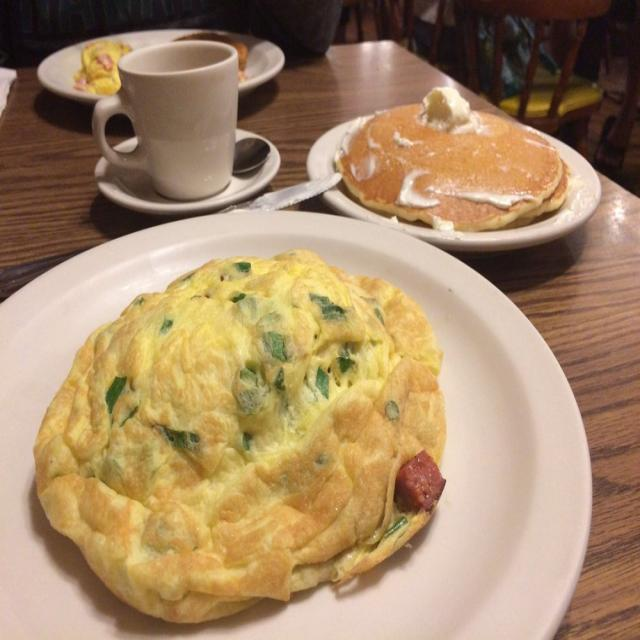Omelette: (25, 242, 452, 625)
Pancakes: (335, 104, 569, 233)
